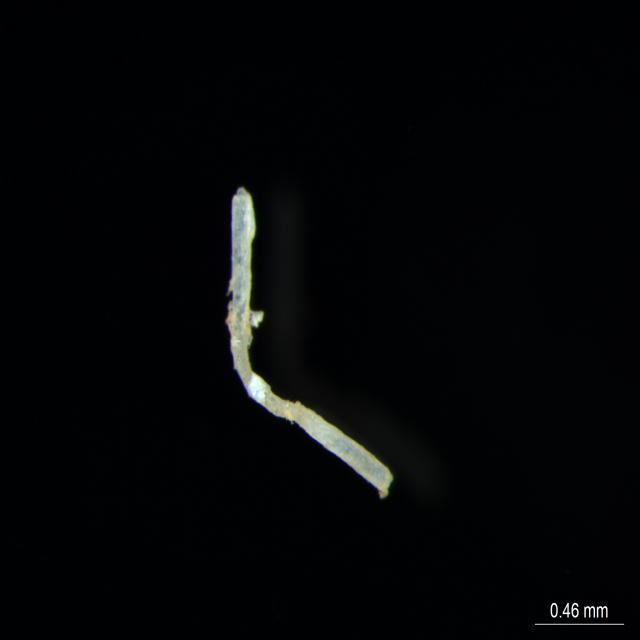fiber: (227, 183, 401, 502)
